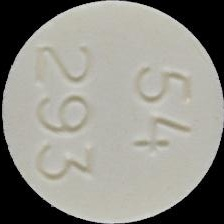0054-4496: (0, 0, 224, 224)
